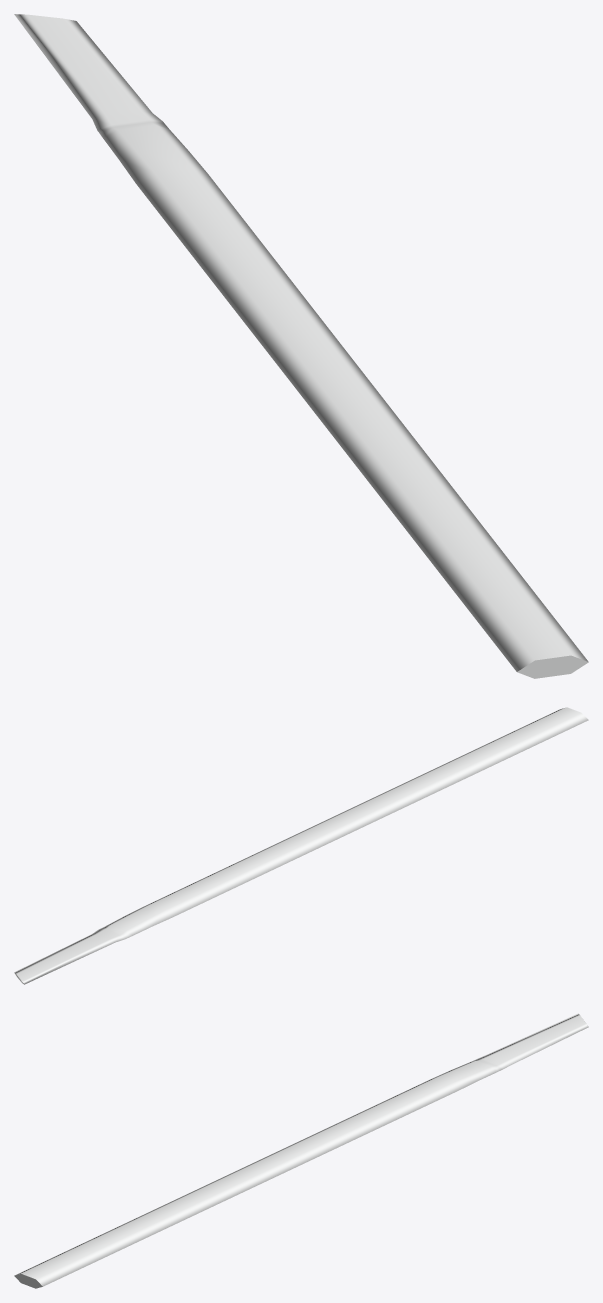
Rendered from Surgery_Equipmet2.fbx.
The picture shows the model from 3 angles, top to bottom: view 1: azimuth 30°, elevation 25°; view 2: azimuth 150°, elevation 25°; view 3: azimuth 330°, elevation 25°; orthographic projection. The views are drawn at different scales.
Parts seen in each view (by area): view 1: Surgery_Equipmet2; view 2: Surgery_Equipmet2; view 3: Surgery_Equipmet2.
Boxes of the visible parts, x1,y1,x2,y2 form: Surgery_Equipmet2: (14, 14, 588, 678); Surgery_Equipmet2: (14, 707, 588, 984); Surgery_Equipmet2: (14, 1013, 588, 1288).
Bounding box in the file's own units: 3.02 × 0.1628 × 12.42.
